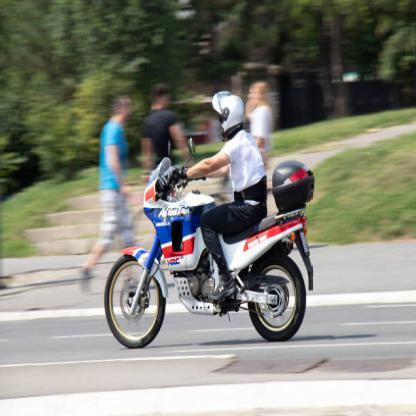Motorcycle: (101, 133, 312, 345)
